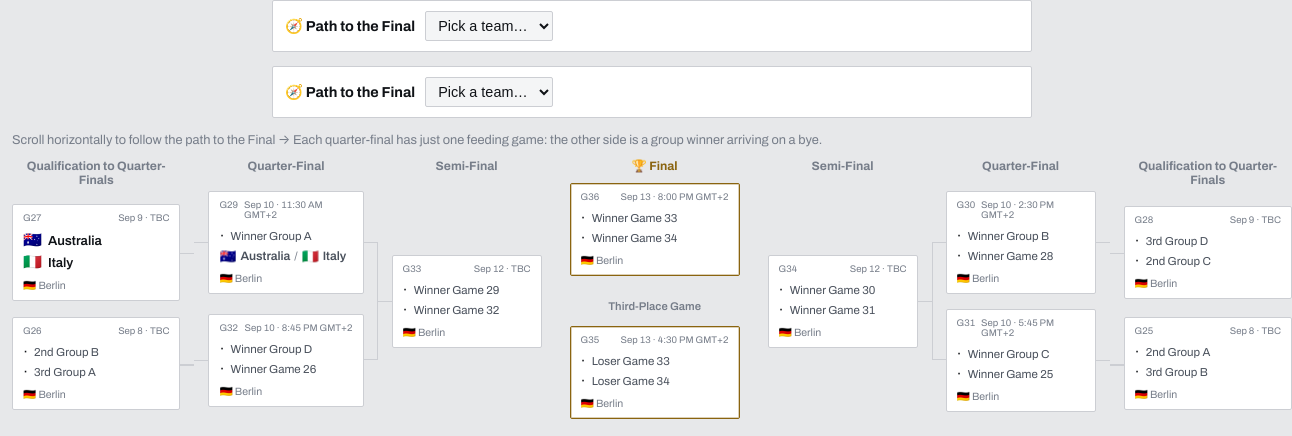
Test: followed teams and traced routes in the bracket › marks a candidate that is on the traced route
Select "🇮🇹 Italy" in the dropdown labelled "🧭 Path to the Final": coordinates (489, 26) left=425, top=11, right=553, bottom=41
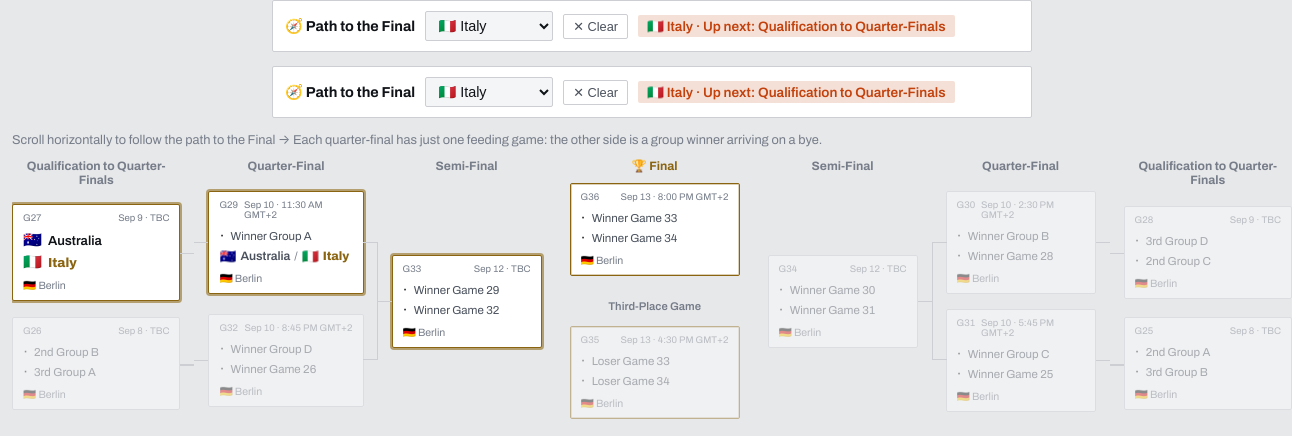
Expected: the 1st element with class "on-path-team" is shown, left=23, top=254, right=77, bottom=270
